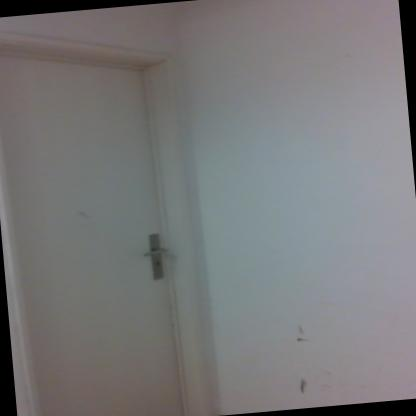closed: (0, 56, 220, 415)
